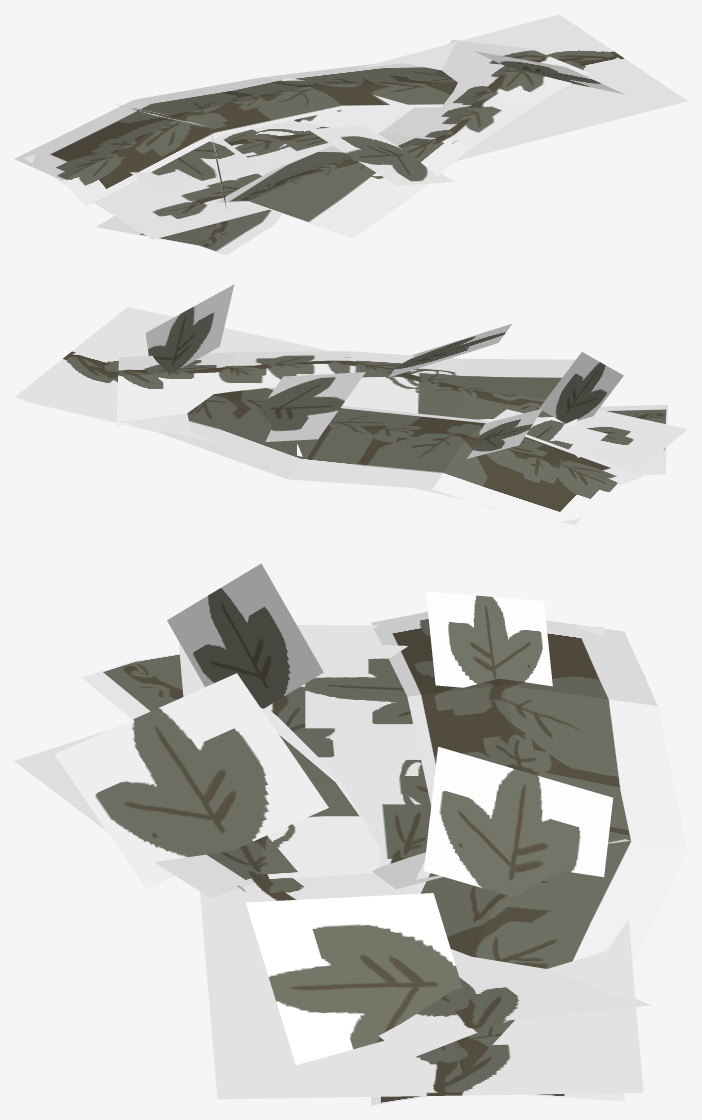
The model's file is Vine1.fbx.
3 views of the same model, one above another, from view 1: azimuth 30°, elevation 25°; view 2: azimuth 150°, elevation 25°; view 3: azimuth 270°, elevation 25° (orthographic). The views are drawn at different scales.
Visible parts, largest first — view 1: Vines.019; view 2: Vines.019; view 3: Vines.019.
Part boxes in pixels (x1=…): Vines.019: x1=14, y1=14, x2=687, y2=255; Vines.019: x1=14, y1=284, x2=687, y2=534; Vines.019: x1=14, y1=563, x2=687, y2=1105.
Size of the model in its own units: 528 by 85.98 by 310.
1 material, 1 textured.
